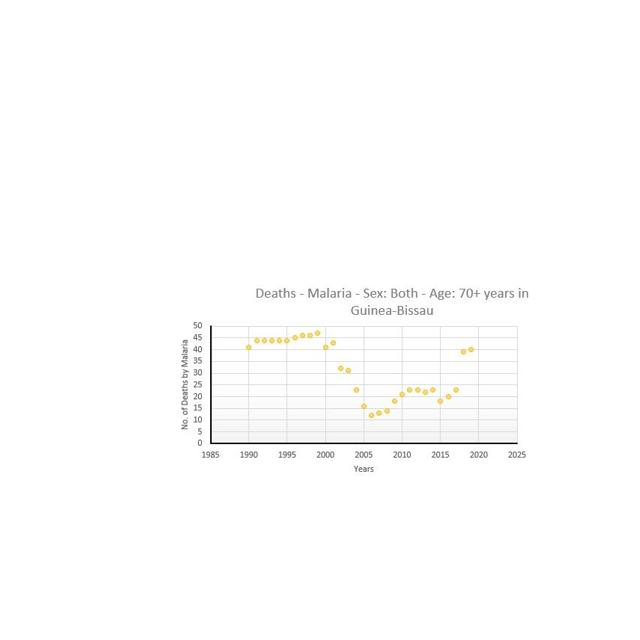Graph: (169, 273, 532, 480)
